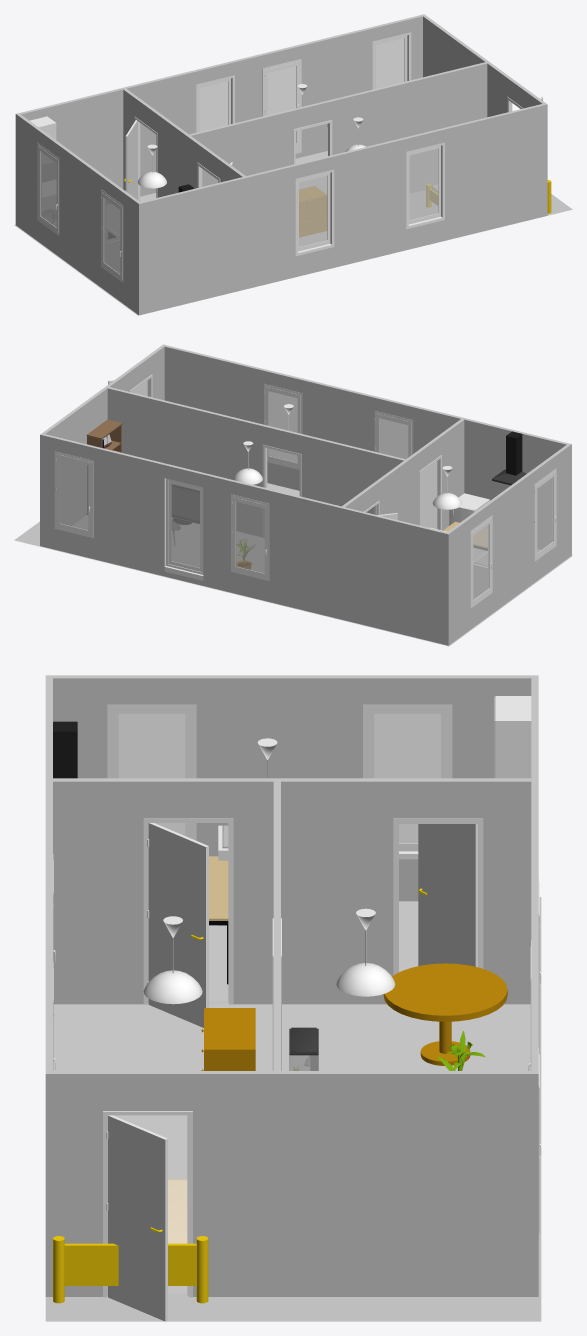
File: Example.gltf
3 views of the same model, one above another, from view 1: azimuth 30°, elevation 25°; view 2: azimuth 150°, elevation 25°; view 3: azimuth 270°, elevation 25° (orthographic). The views are drawn at different scales.
Visible parts, largest first — view 1: wall_2_11, wall_4_22, wall_6_35, wall_1_5, wall_5_29, wall_3_16, sweethome3d_window_pane_on_hinge_1_114, sweethome3d_window_pane_on_hinge_1_121, sweethome3d_window_pane_on_hinge_1_100, sweethome3d_window_pane_on_hinge_1_107, sweethome3d_window_pane_on_hinge_1_79, sweethome3d_window_pane_on_hinge_1_86 (+28 smaller); view 2: wall_4_23, wall_2_10, wall_6_34, wall_1_5, wall_5_29, wall_3_16, sweethome3d_window_pane_on_hinge_1_79, sweethome3d_window_pane_on_hinge_1_107, room_8_40, sweethome3d_window_pane_on_hinge_1_100, sweethome3d_window_pane_on_hinge_1_114, sweethome3d_window_pane_on_hinge_1_86 (+29 smaller); view 3: wall_3_17, wall_5_28, wall_1_4, room_9_42, ground_1, room_8_40, sweethome3d_opening_on_hinge_1_door_71, sweethome3d_opening_on_hinge_1_door_62, sweethome3d_opening_on_hinge_1_door_53, Plateau_322, sweethome3d_window_pane_on_hinge_1_86, sweethome3d_window_pane_on_hinge_1_93 (+28 smaller).
Part boxes in pixels (box(x1,y1,x2,y2)): wall_2_11: box(139, 104, 547, 315); wall_4_22: box(21, 16, 422, 204); wall_6_35: box(191, 63, 487, 193); wall_1_5: box(15, 114, 138, 314); wall_5_29: box(123, 90, 242, 197); wall_3_16: box(423, 16, 542, 117); sweethome3d_window_pane_on_hinge_1_114: box(409, 148, 438, 219); sweethome3d_window_pane_on_hinge_1_121: box(299, 175, 327, 247); sweethome3d_window_pane_on_hinge_1_100: box(199, 81, 228, 131); sweethome3d_window_pane_on_hinge_1_107: box(376, 38, 404, 88); sweethome3d_window_pane_on_hinge_1_79: box(268, 66, 296, 143); sweethome3d_window_pane_on_hinge_1_86: box(40, 151, 56, 227); wall_4_23: box(40, 434, 448, 645); wall_2_10: box(164, 346, 566, 549); wall_6_34: box(107, 388, 403, 536); wall_1_5: box(448, 444, 571, 645); wall_5_29: box(345, 420, 464, 530); wall_3_16: box(45, 347, 164, 525); sweethome3d_window_pane_on_hinge_1_79: box(171, 484, 199, 567); sweethome3d_window_pane_on_hinge_1_107: box(59, 459, 88, 530); room_8_40: box(73, 515, 264, 572); sweethome3d_window_pane_on_hinge_1_100: box(236, 502, 264, 573); sweethome3d_window_pane_on_hinge_1_114: box(269, 391, 297, 462); sweethome3d_window_pane_on_hinge_1_86: box(473, 524, 489, 599); wall_3_17: box(45, 1074, 538, 1296); wall_5_28: box(53, 781, 531, 1004); wall_1_4: box(53, 678, 531, 901); room_9_42: box(53, 1004, 272, 1293); ground_1: box(45, 897, 541, 1321); room_8_40: box(282, 1004, 530, 1070); sweethome3d_opening_on_hinge_1_door_71: box(108, 1115, 167, 1321); sweethome3d_opening_on_hinge_1_door_62: box(148, 823, 208, 1027); sweethome3d_opening_on_hinge_1_door_53: box(418, 824, 477, 967); Plateau_322: box(383, 963, 507, 1021); sweethome3d_window_pane_on_hinge_1_86: box(374, 713, 440, 843); sweethome3d_window_pane_on_hinge_1_93: box(118, 713, 185, 835).
Size of the model in its own units: 1022 by 250 by 504.
